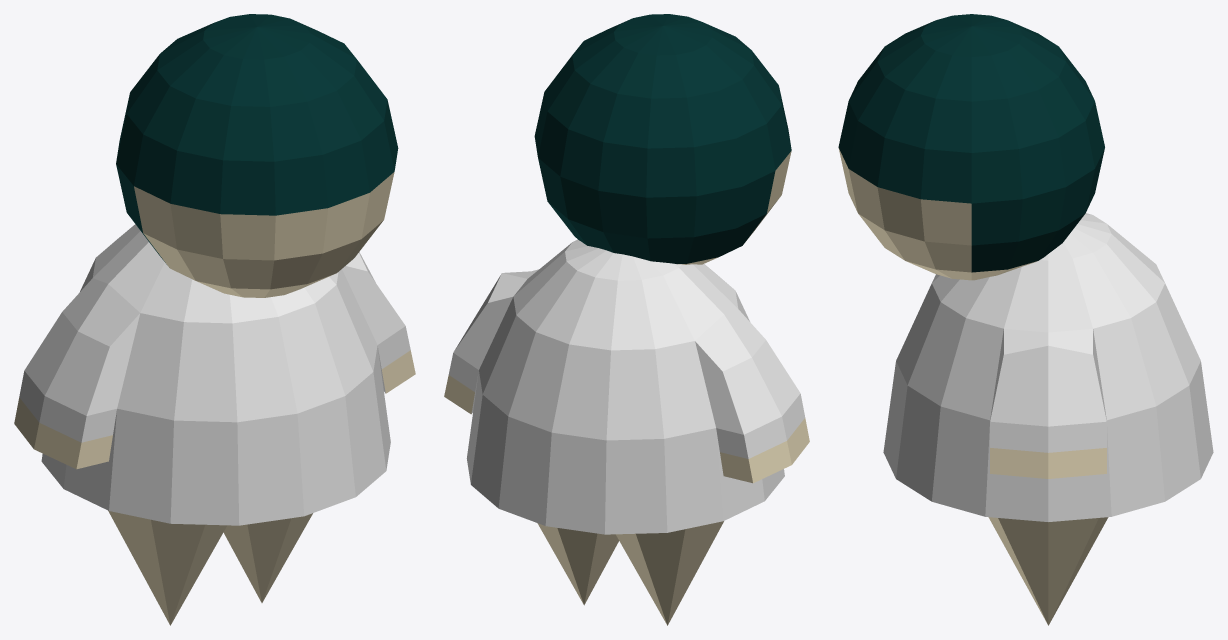
The model's file is human1.glb.
The picture shows the model from 3 angles, left to right: view 1: azimuth 30°, elevation 25°; view 2: azimuth 150°, elevation 25°; view 3: azimuth 270°, elevation 25°; orthographic projection. The views are drawn at different scales.
Visible parts, largest first — view 1: Sphere.001, Sphere, Cone.001, Cone; view 2: Sphere.001, Sphere, Cone.001, Cone; view 3: Sphere.001, Sphere, Cone.
Part boxes in pixels (x1=…): Sphere.001: x1=14, y1=224, x2=415, y2=525; Sphere: x1=116, y1=14, x2=398, y2=297; Cone.001: x1=108, y1=510, x2=227, y2=625; Cone: x1=223, y1=513, x2=312, y2=602; Sphere.001: x1=444, y1=239, x2=809, y2=534; Sphere: x1=534, y1=14, x2=791, y2=264; Cone.001: x1=616, y1=521, x2=723, y2=625; Cone: x1=537, y1=523, x2=618, y2=605; Sphere.001: x1=883, y1=213, x2=1213, y2=521; Sphere: x1=838, y1=14, x2=1104, y2=280; Cone: x1=988, y1=517, x2=1108, y2=625.
Bounding box in the file's own units: 0.8587 × 1.4 × 0.8222.
